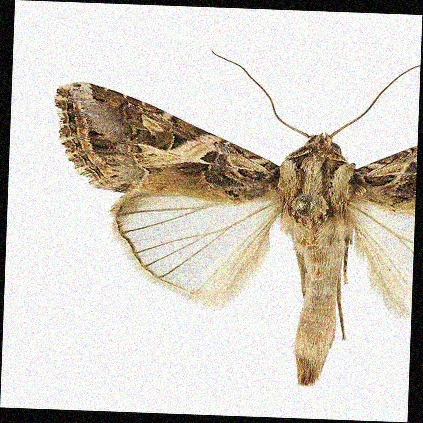Spodoptera litura: (50, 51, 415, 384)
